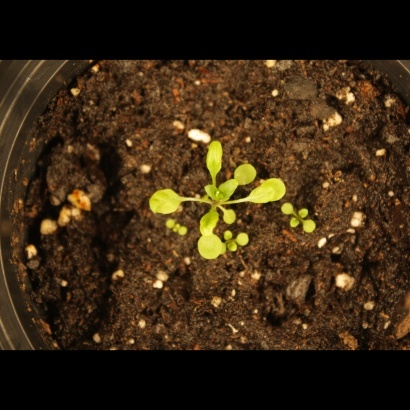leaf: (142, 184, 185, 215), (247, 176, 291, 206), (193, 231, 230, 265), (204, 138, 227, 180), (196, 206, 221, 241), (233, 160, 258, 187), (302, 218, 325, 241), (275, 196, 298, 219), (236, 229, 259, 252), (221, 204, 244, 227), (217, 179, 240, 202)
